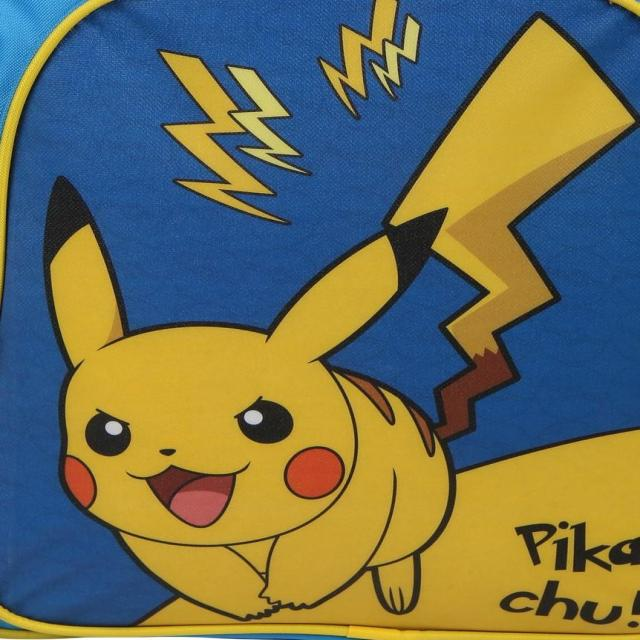pikachu: (51, 18, 637, 619)
